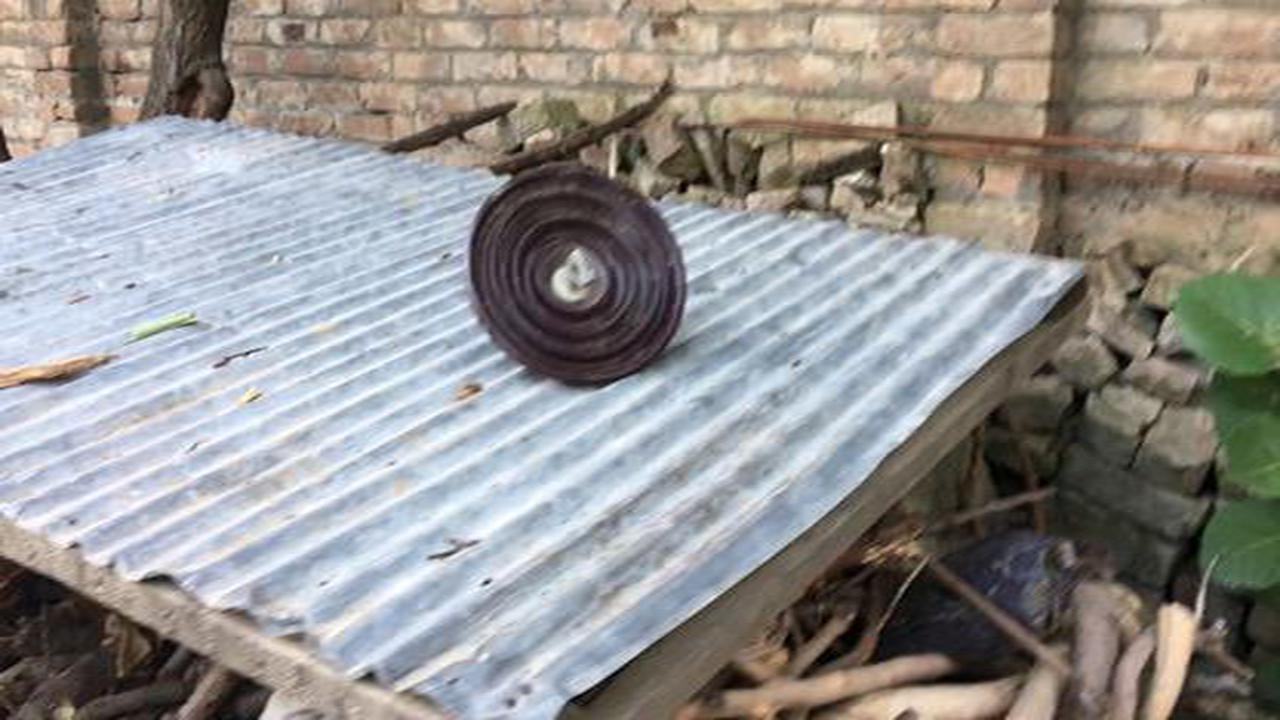insulator_disc: (465, 158, 692, 386)
